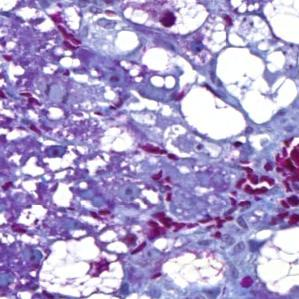ballooning: (34, 232, 125, 299), (117, 2, 212, 39), (252, 223, 297, 297)
